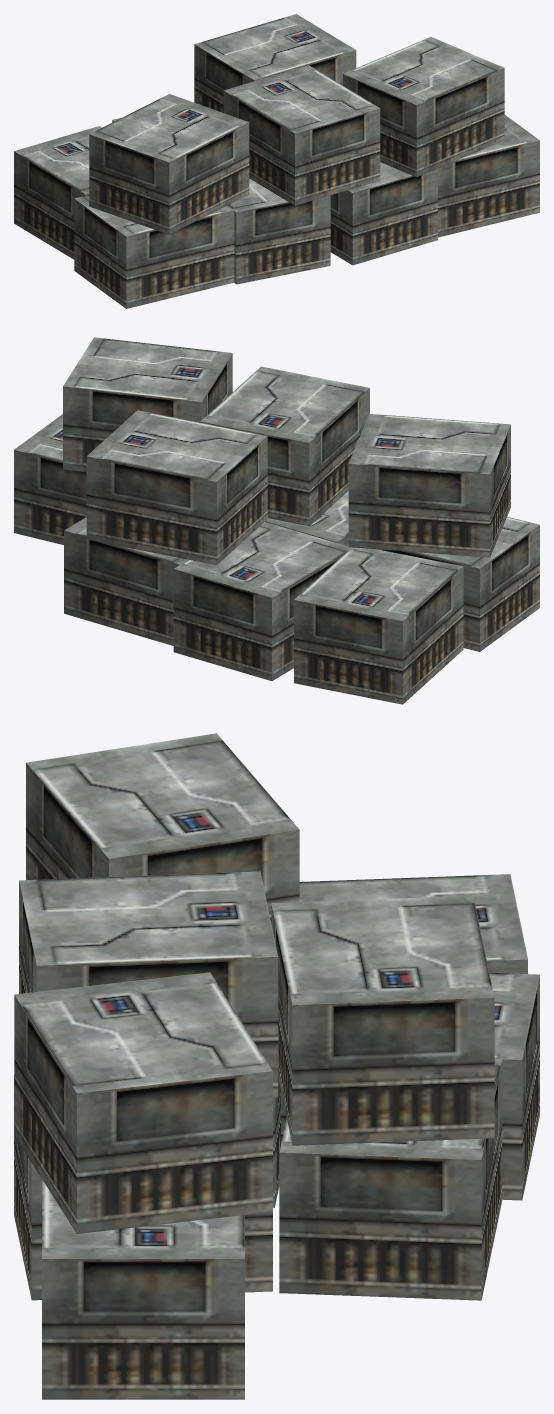
File: eaw_crates4.glb
The picture shows the model from 3 angles, top to bottom: view 1: azimuth 30°, elevation 25°; view 2: azimuth 150°, elevation 25°; view 3: azimuth 270°, elevation 25°; orthographic projection. The views are drawn at different scales.
Parts seen in each view (by area): view 1: clusterD_01_0; view 2: clusterD_01_0; view 3: clusterD_01_0.
Part boxes in pixels (x1,y1,x2,y2): clusterD_01_0: [14, 14, 539, 308]; clusterD_01_0: [14, 337, 539, 704]; clusterD_01_0: [14, 733, 539, 1399].
Size of the model in its own units: 4.02 by 1.36 by 2.3.
1 material, 1 textured.
